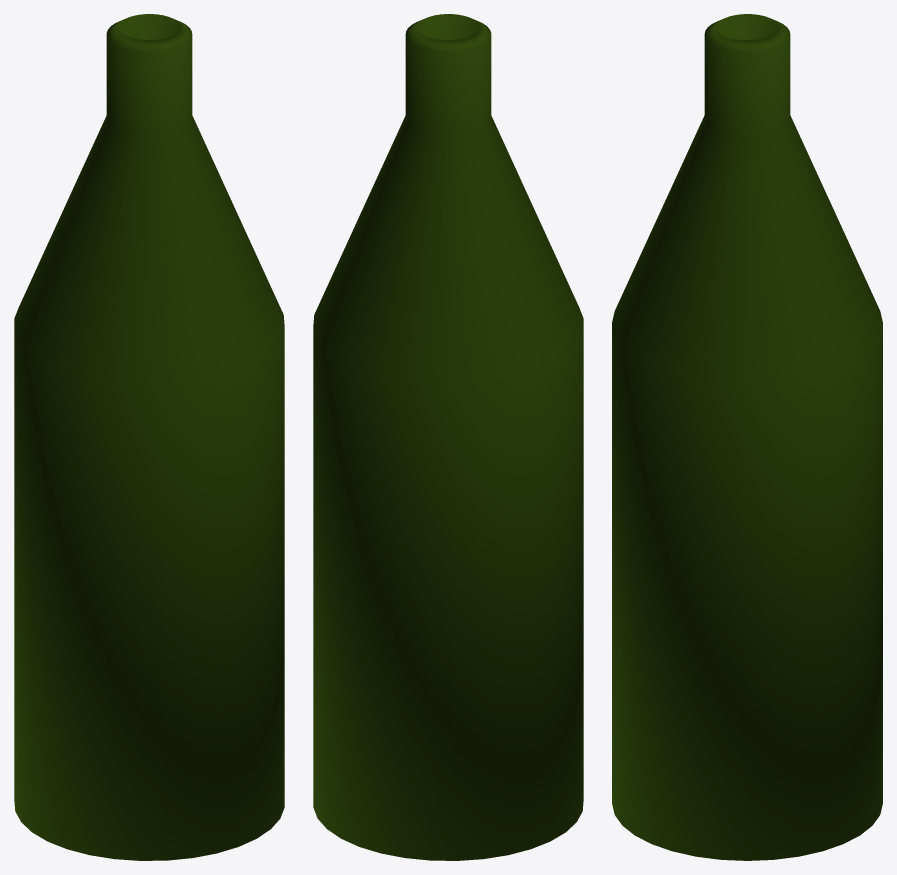
The model's file is bottle.obj.
The picture shows the model from 3 angles, left to right: view 1: azimuth 30°, elevation 25°; view 2: azimuth 150°, elevation 25°; view 3: azimuth 270°, elevation 25°; orthographic projection.
Parts seen in each view (by area): view 1: Cylinder; view 2: Cylinder; view 3: Cylinder.
Boxes of the visible parts, bbox=[...] form: Cylinder: bbox=[14, 14, 284, 860]; Cylinder: bbox=[313, 14, 583, 860]; Cylinder: bbox=[612, 14, 882, 860].
Bounding box in the file's own units: 0.065 × 0.2057 × 0.065.
